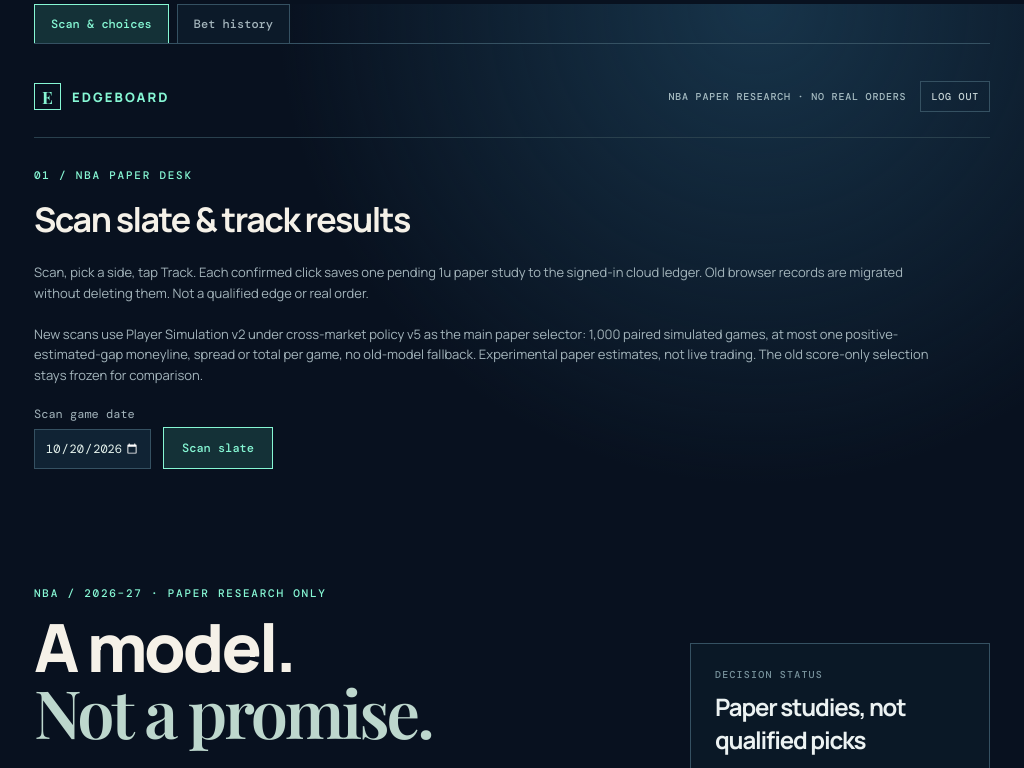
Test: October 20 NBA Kalshi checklist › explains a policy abstention without inventing missing books or offering a track button
Click the button "Scan slate": point(218, 448) left=163, top=427, right=273, bottom=469
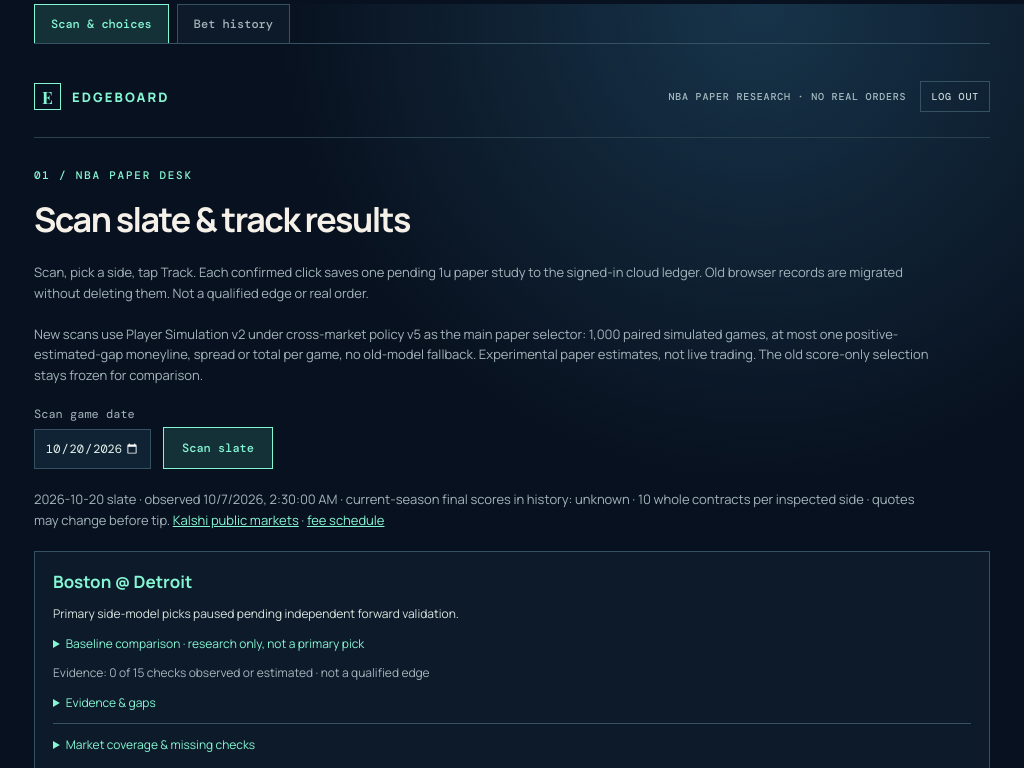
Check: the text "Primary side-model picks paused" is shown, box left=53, top=605, right=459, bottom=622
